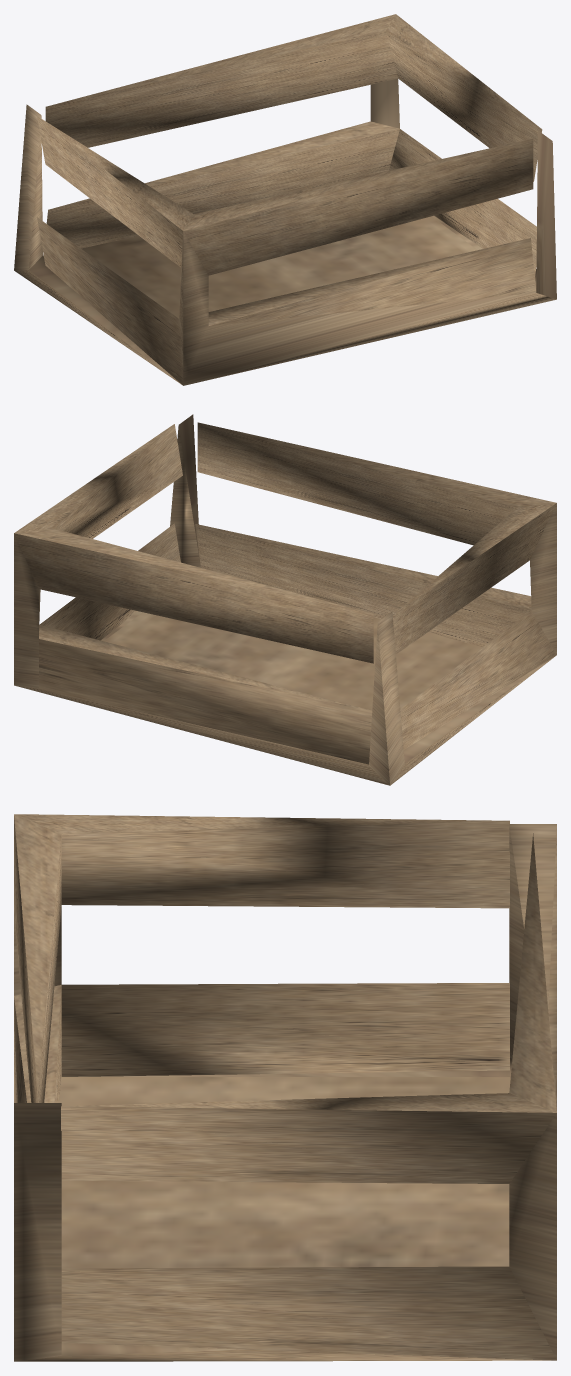
File: empty_box_2 (1).fbx
3 views of the same model, one above another, from view 1: azimuth 30°, elevation 25°; view 2: azimuth 150°, elevation 25°; view 3: azimuth 270°, elevation 25° (orthographic). The views are drawn at different scales.
Parts seen in each view (by area): view 1: Cube; view 2: Cube; view 3: Cube.
Boxes of the visible parts, x1,y1,x2,y2 form: Cube: [14, 14, 556, 385]; Cube: [14, 414, 556, 785]; Cube: [14, 814, 556, 1361].
Bounding box in the file's own units: 60.04 × 24.53 × 46.12.
